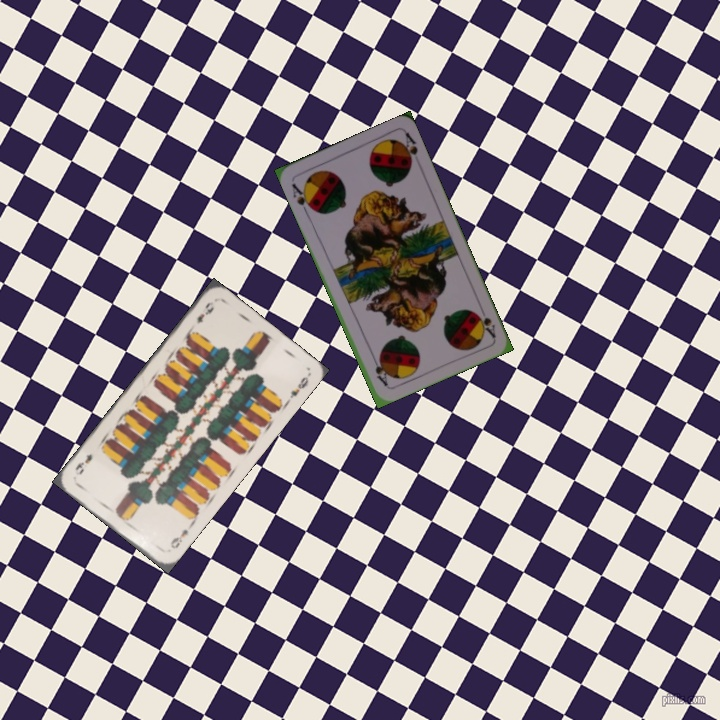E9: (166, 520, 195, 551), (193, 297, 216, 326)
SA: (471, 302, 499, 341), (288, 179, 316, 216)
